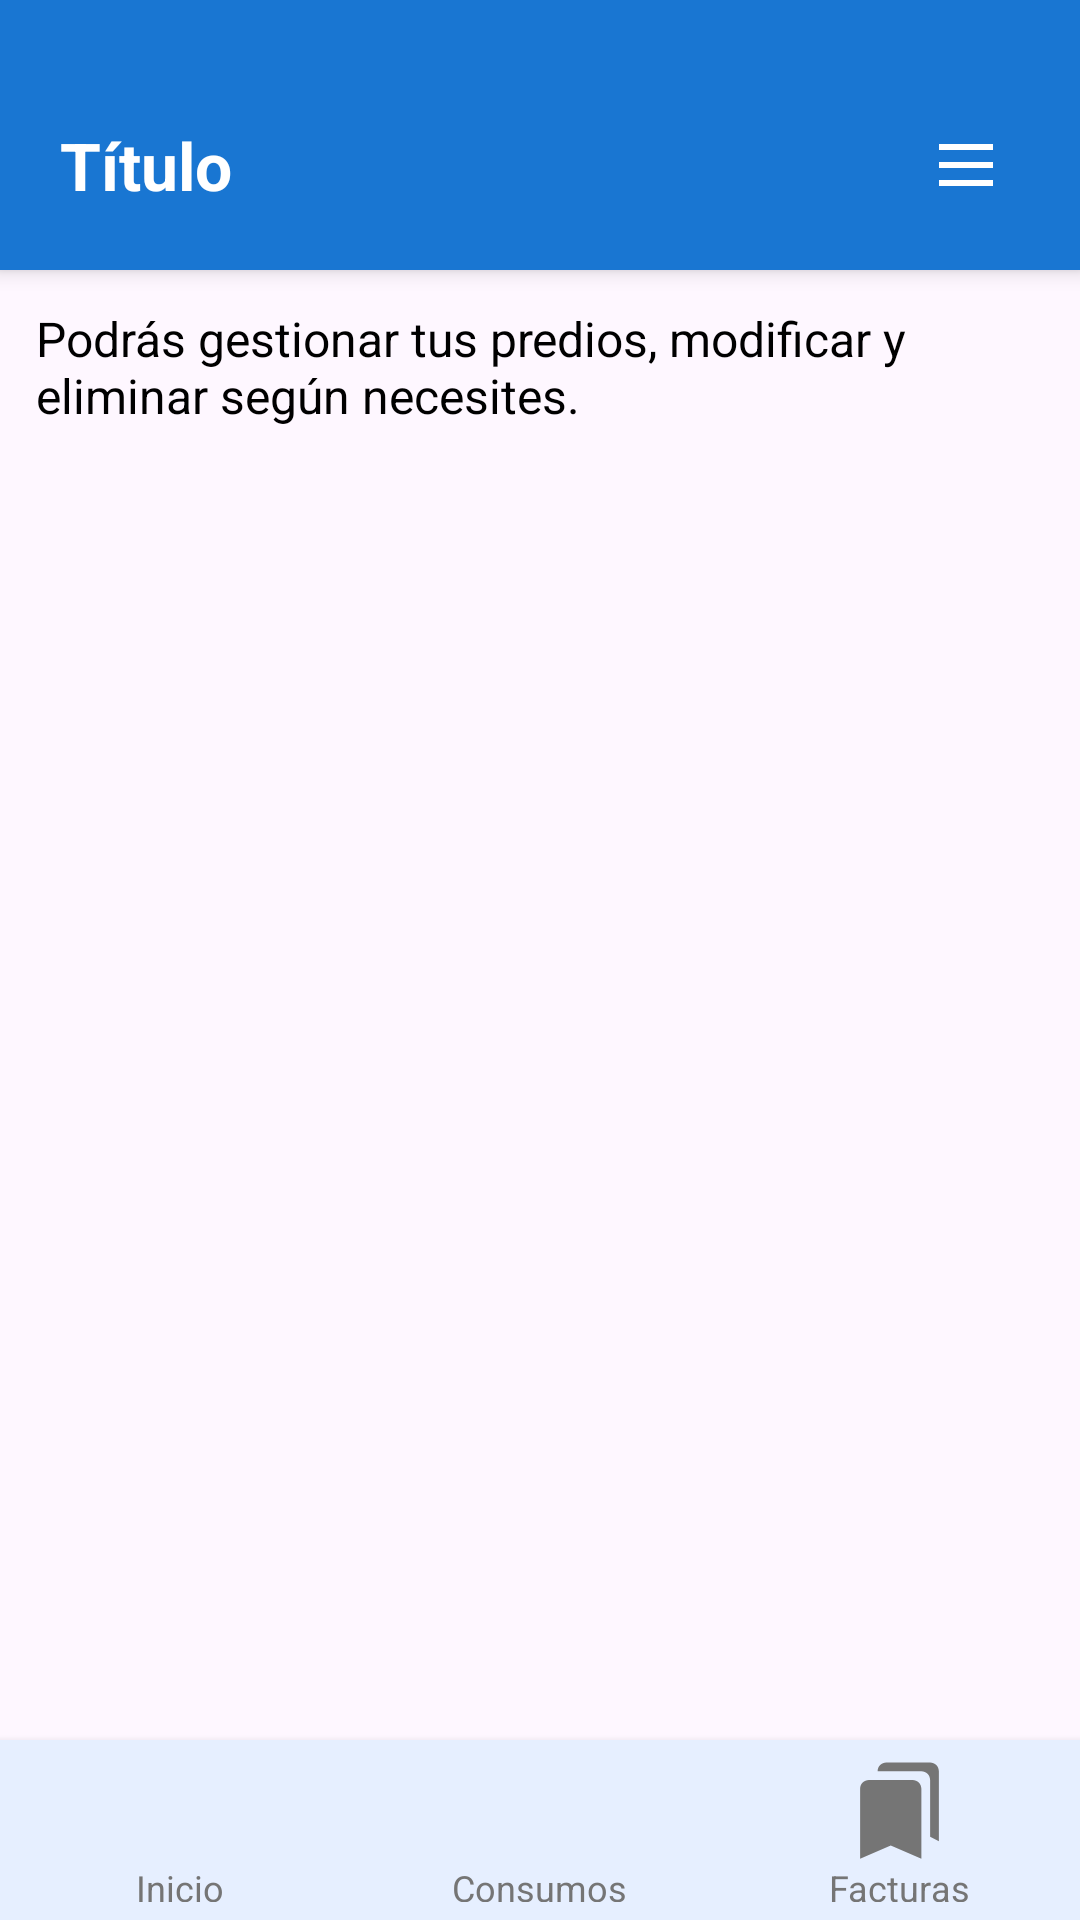

Screen size 1080px x 1920px. Icon name, then its box in pixels as (x1, y1, x2, y2):
dash recibos: (860, 1762, 939, 1859)
Menú principal: (939, 144, 993, 186)
